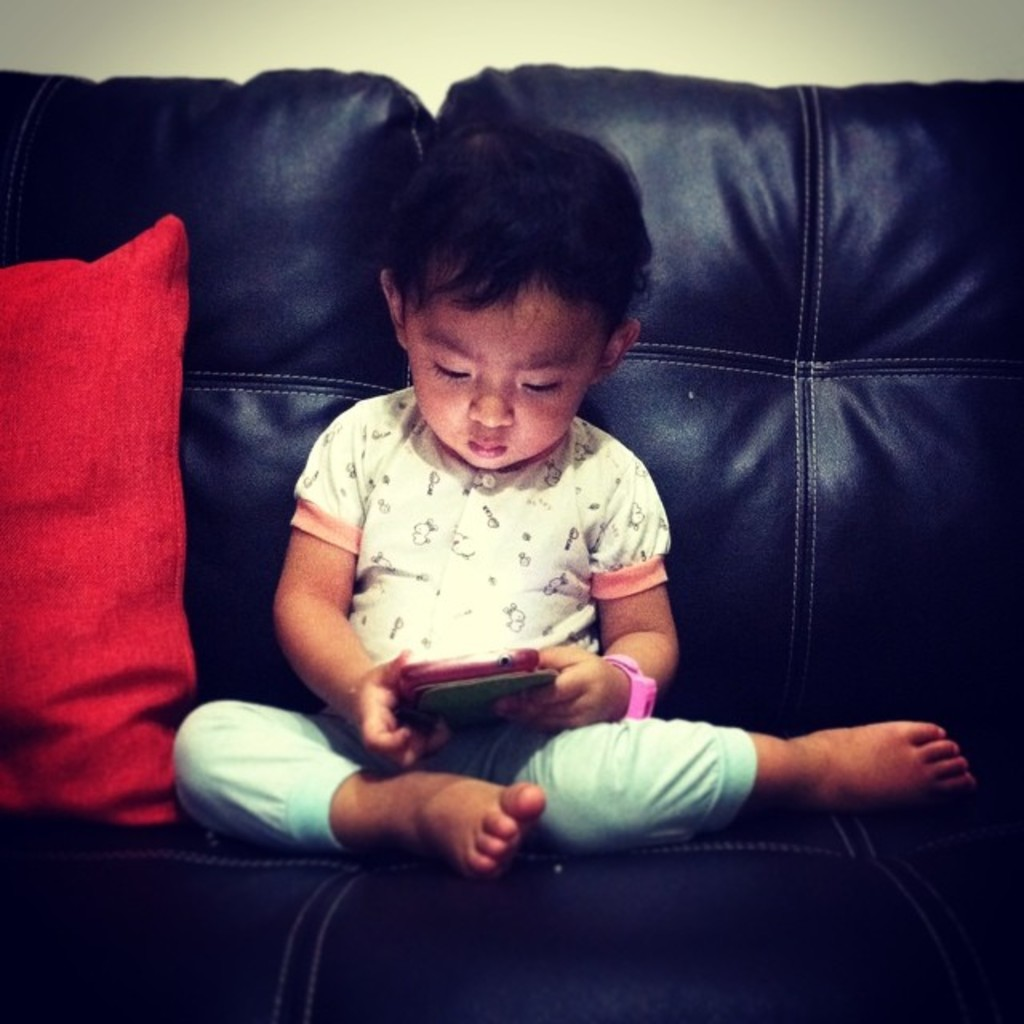Human_hand: (346, 643, 466, 773), (493, 637, 613, 728)
